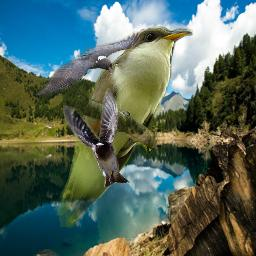Crow: (35, 31, 140, 96)
Cuckoo: (55, 26, 193, 228)
Swallow: (63, 88, 130, 187)
